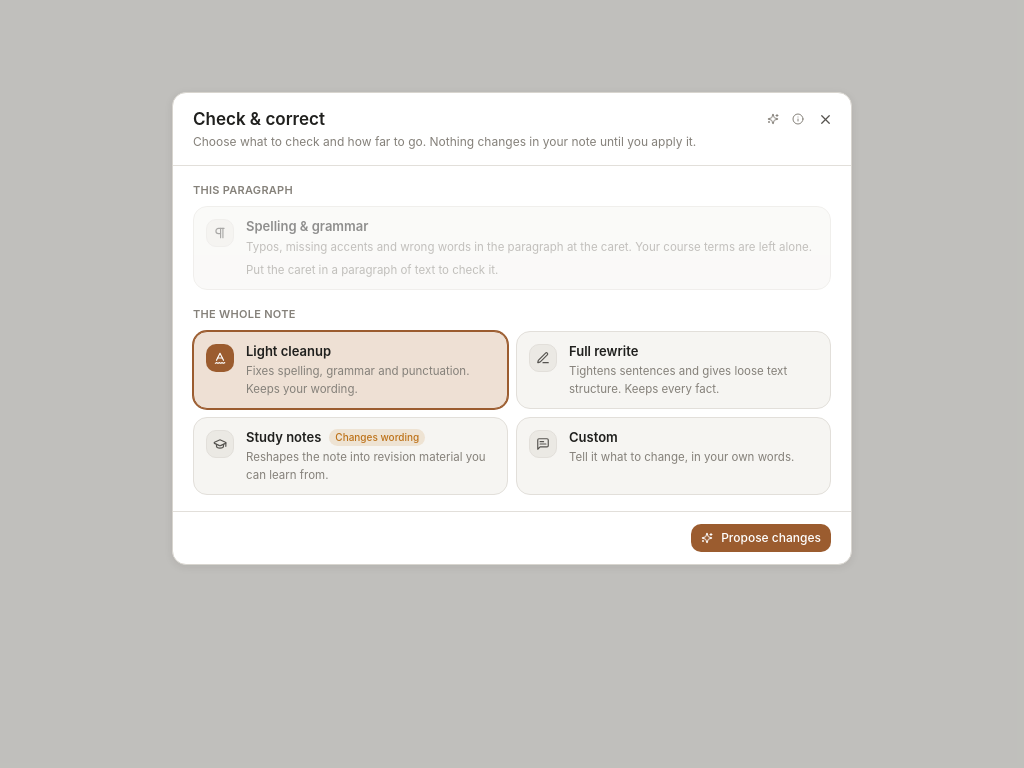
Test: CheckDialog study mode › says plainly that this mode changes the wording
This screenshot has width=1024, height=768.
Expected: the text "changes the wording" is not shown
Click the radio button labelled "Study notes" at (350, 456), box [193,417,508,495]
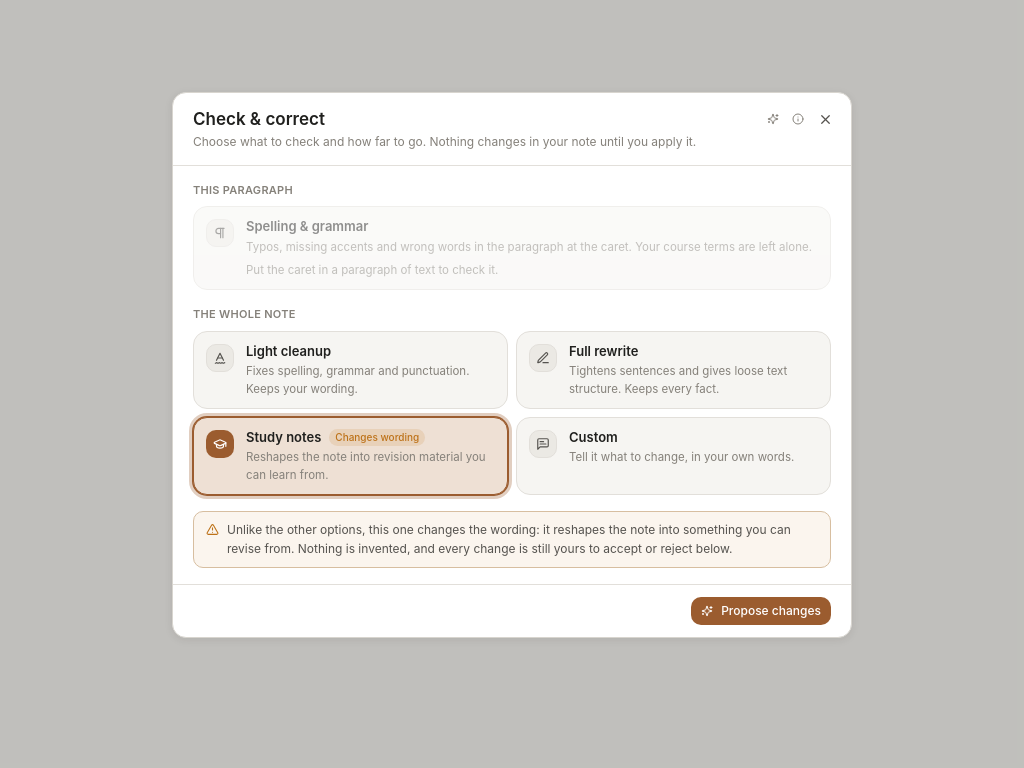
Now the text "this one changes the wording" is shown, box [227,522,791,556]
